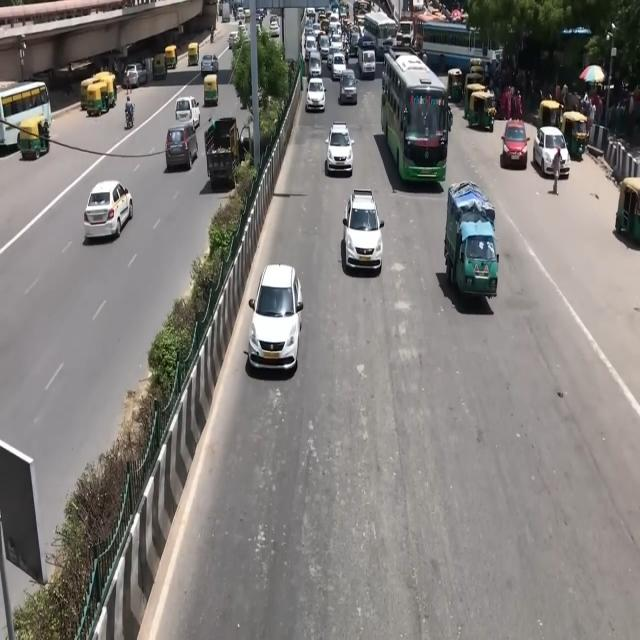auto: (615, 178, 640, 246), (465, 85, 496, 132), (561, 110, 590, 160), (17, 115, 49, 160), (538, 98, 564, 130), (86, 81, 109, 117), (447, 67, 464, 104), (203, 73, 219, 106), (152, 54, 167, 79), (164, 45, 178, 70), (188, 42, 200, 66)
bike-auto: (125, 97, 135, 129), (126, 76, 132, 94), (210, 25, 215, 42)
